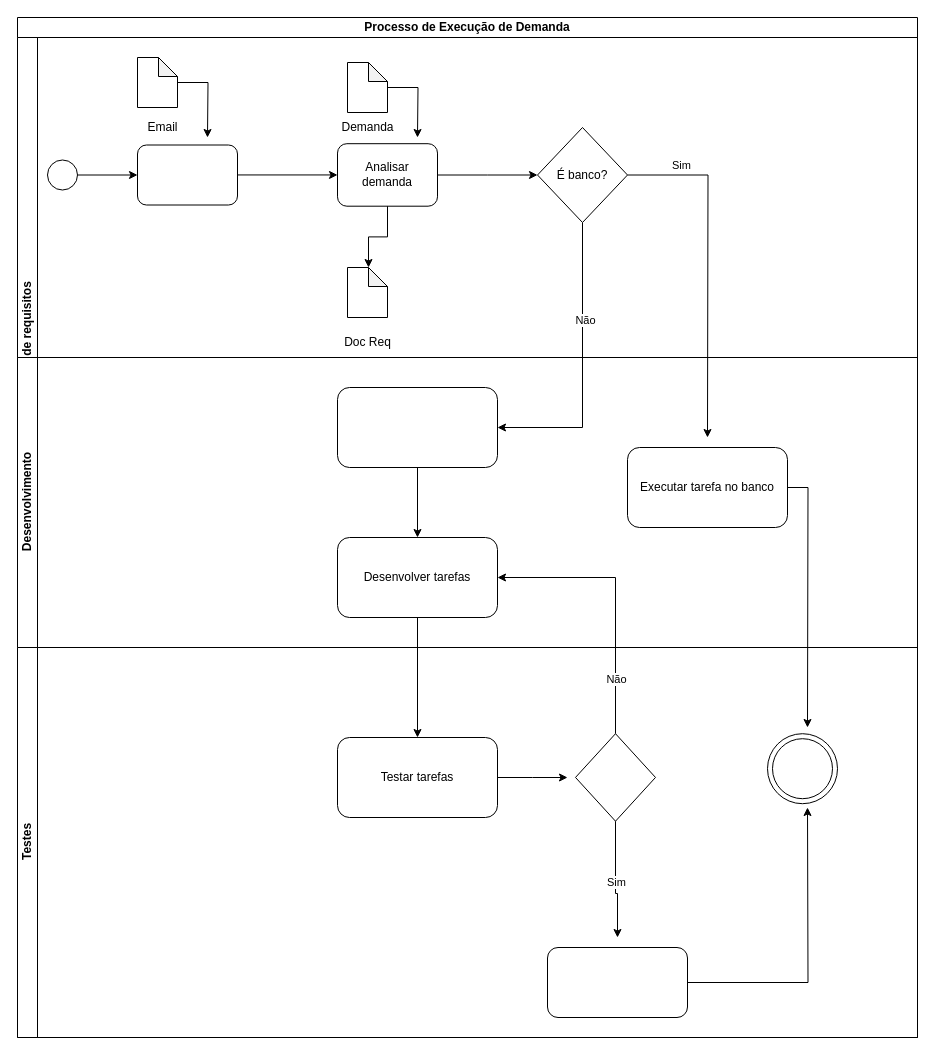
The diagram is 935 pixels wide and 1055 high, and some of its shapes have lost their labels. Each missing label, with the box of its shape:
Estimar tarefas: (336, 386, 498, 468)
Finalizar tarefas: (546, 946, 688, 1018)
Receber demanda: (136, 144, 238, 205)
Teste ok?: (574, 733, 656, 821)
